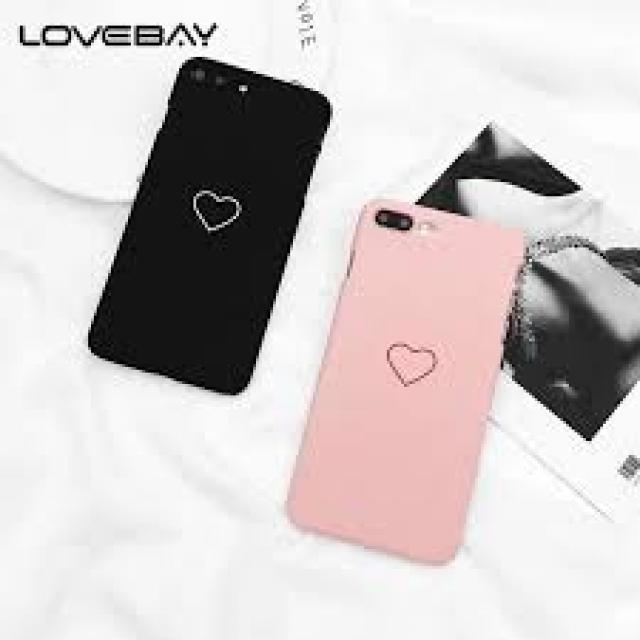lens: (188, 64, 235, 90), (372, 206, 415, 232)
phone: (280, 197, 528, 567), (89, 56, 334, 397)
